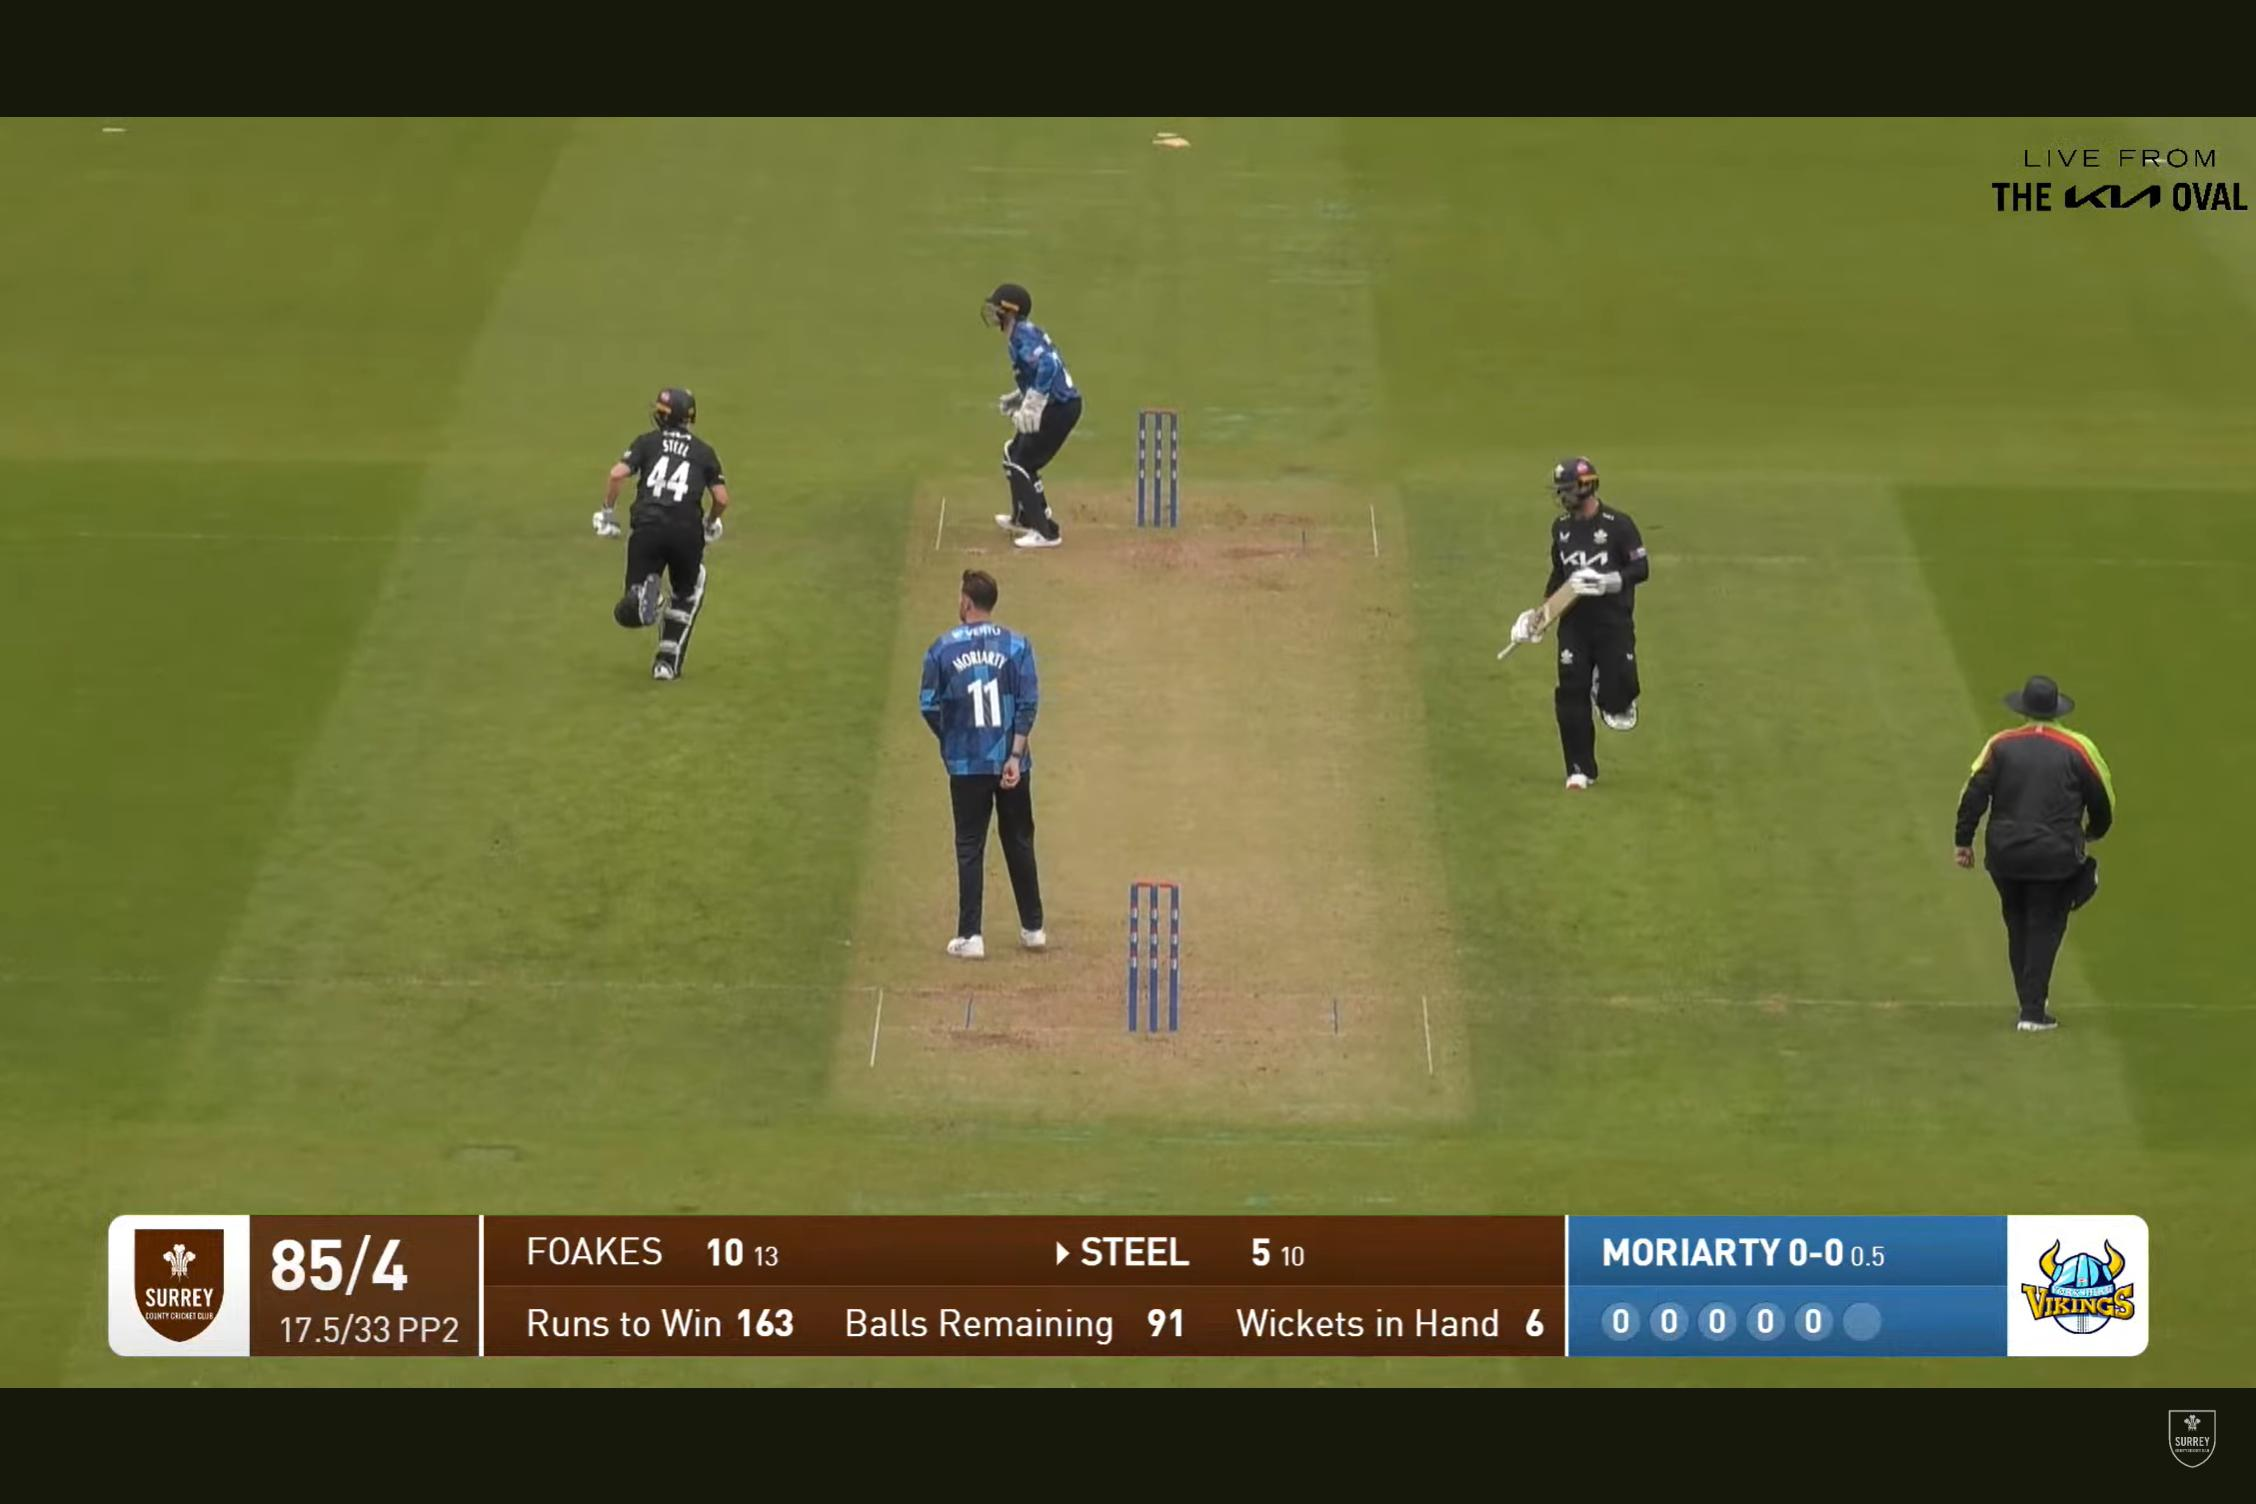running: (1475, 408, 1697, 797), (557, 347, 762, 673)
stumps: (1098, 843, 1224, 1089), (1120, 388, 1210, 552)
umpire: (1934, 671, 2140, 1049)
wicket keeper: (952, 257, 1089, 540)
